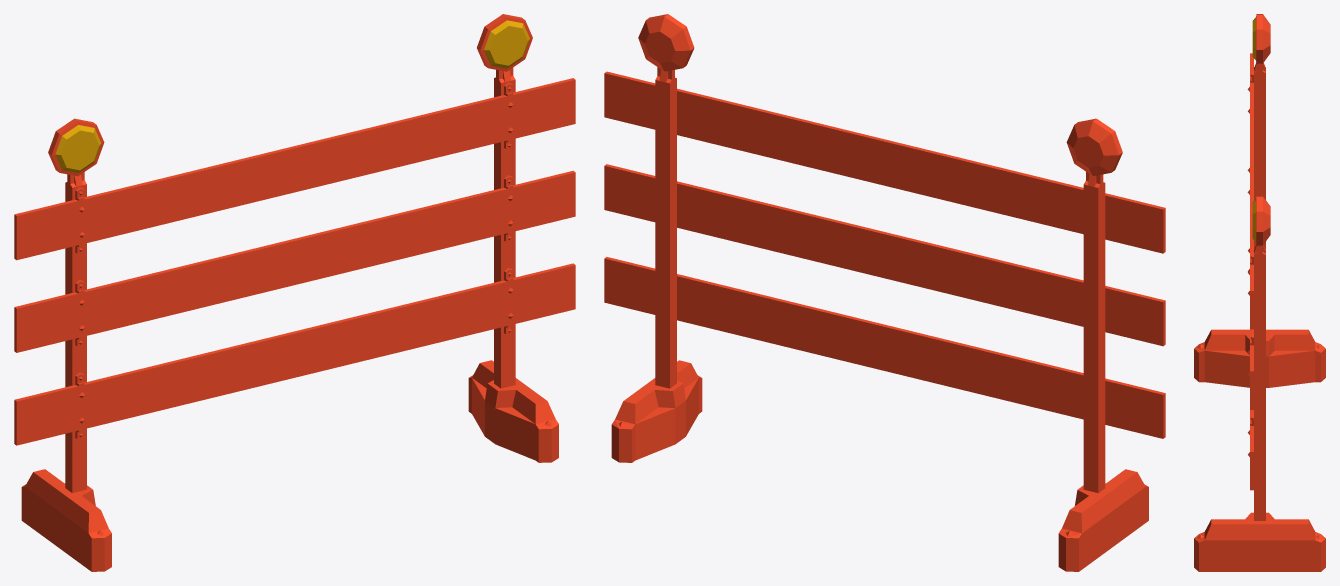
File: SM_Barrier_C_City.fbx
The picture shows the model from 3 angles, left to right: view 1: azimuth 30°, elevation 25°; view 2: azimuth 150°, elevation 25°; view 3: azimuth 270°, elevation 25°; orthographic projection. The views are drawn at different scales.
Parts seen in each view (by area): view 1: SM_Barrier_C_City; view 2: SM_Barrier_C_City; view 3: SM_Barrier_C_City.
Boxes of the visible parts, x1,y1,x2,y2 form: SM_Barrier_C_City: (14, 14, 575, 571); SM_Barrier_C_City: (604, 14, 1165, 571); SM_Barrier_C_City: (1194, 14, 1325, 571).
Bounding box in the file's own units: 2.11 × 1.52 × 0.4953.
